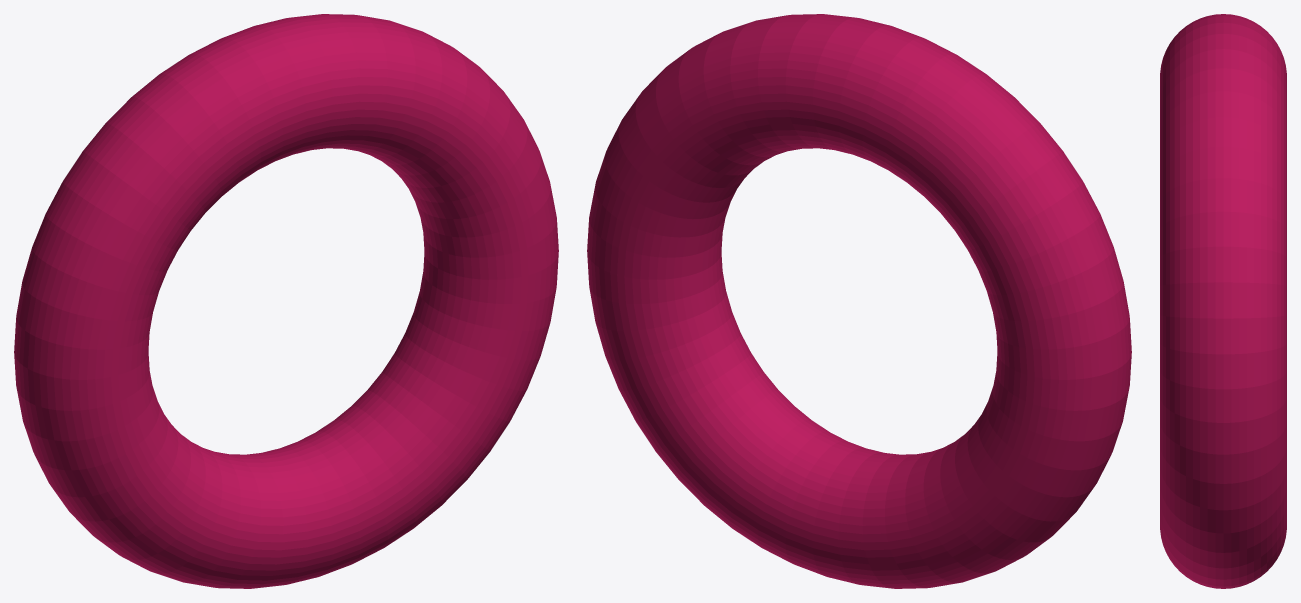
3 views of the same model, side by side, from view 1: azimuth 30°, elevation 25°; view 2: azimuth 150°, elevation 25°; view 3: azimuth 270°, elevation 25° (orthographic). The views are drawn at different scales.
Parts seen in each view (by area): view 1: world; view 2: world; view 3: world.
Boxes of the visible parts, <box> form: world: <box>14,14,558,588</box>; world: <box>587,14,1131,588</box>; world: <box>1160,14,1286,588</box>.
Size of the model in its own units: 36.8 by 36.73 by 8.12.
